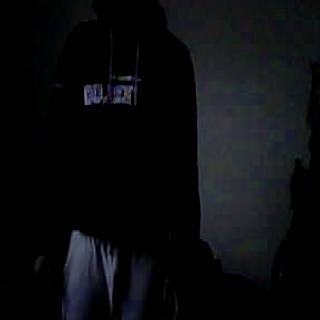Waterloo Hoodie: (34, 13, 194, 234)
White Sweatpants: (59, 234, 167, 320)
